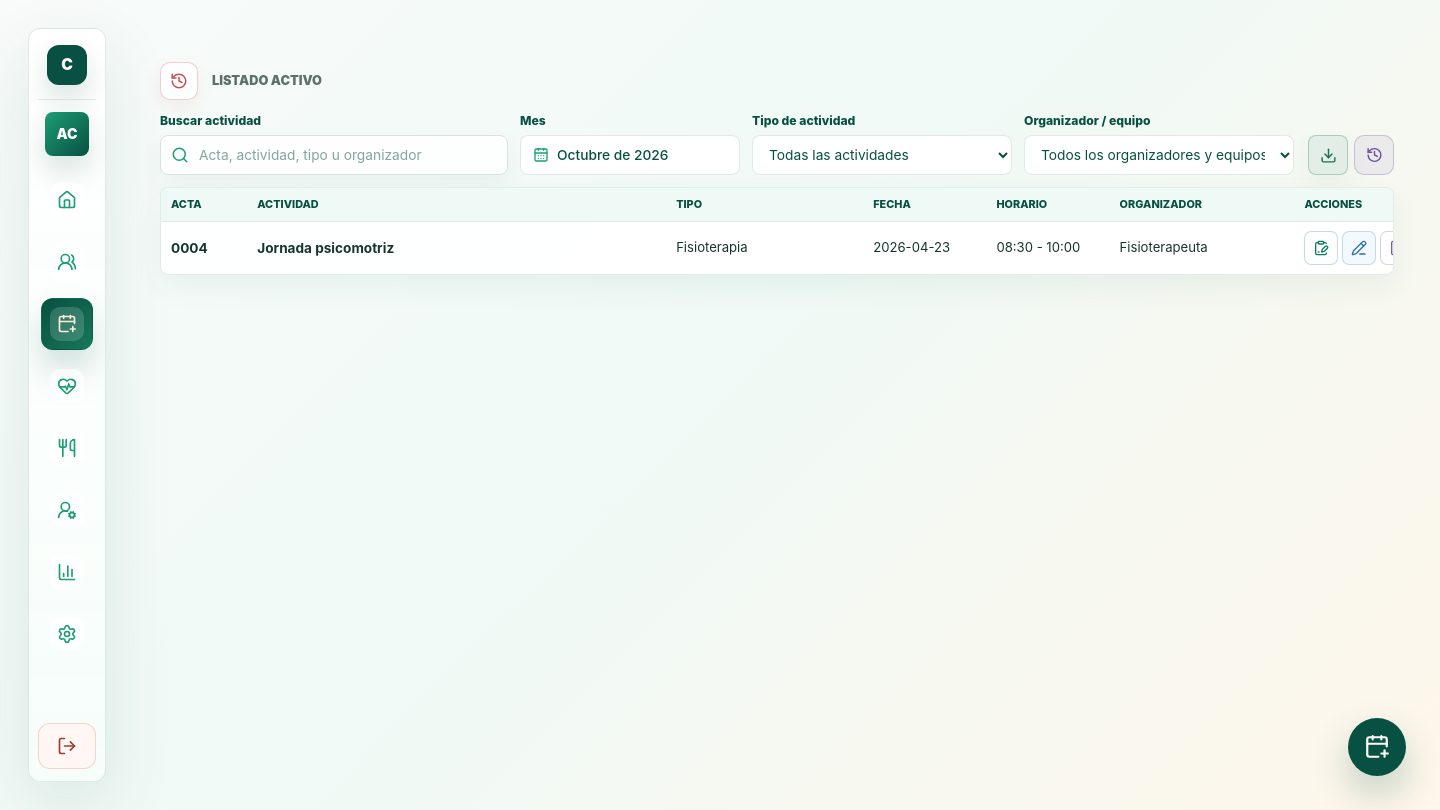
Test case: App actividades deletion log flow › opens the deletion log from the activities list and shows deleted actas
The image size is (1440, 810).
Click the button named "Ver log de eliminaciones".
click(179, 81)  # box [160, 62, 198, 100]
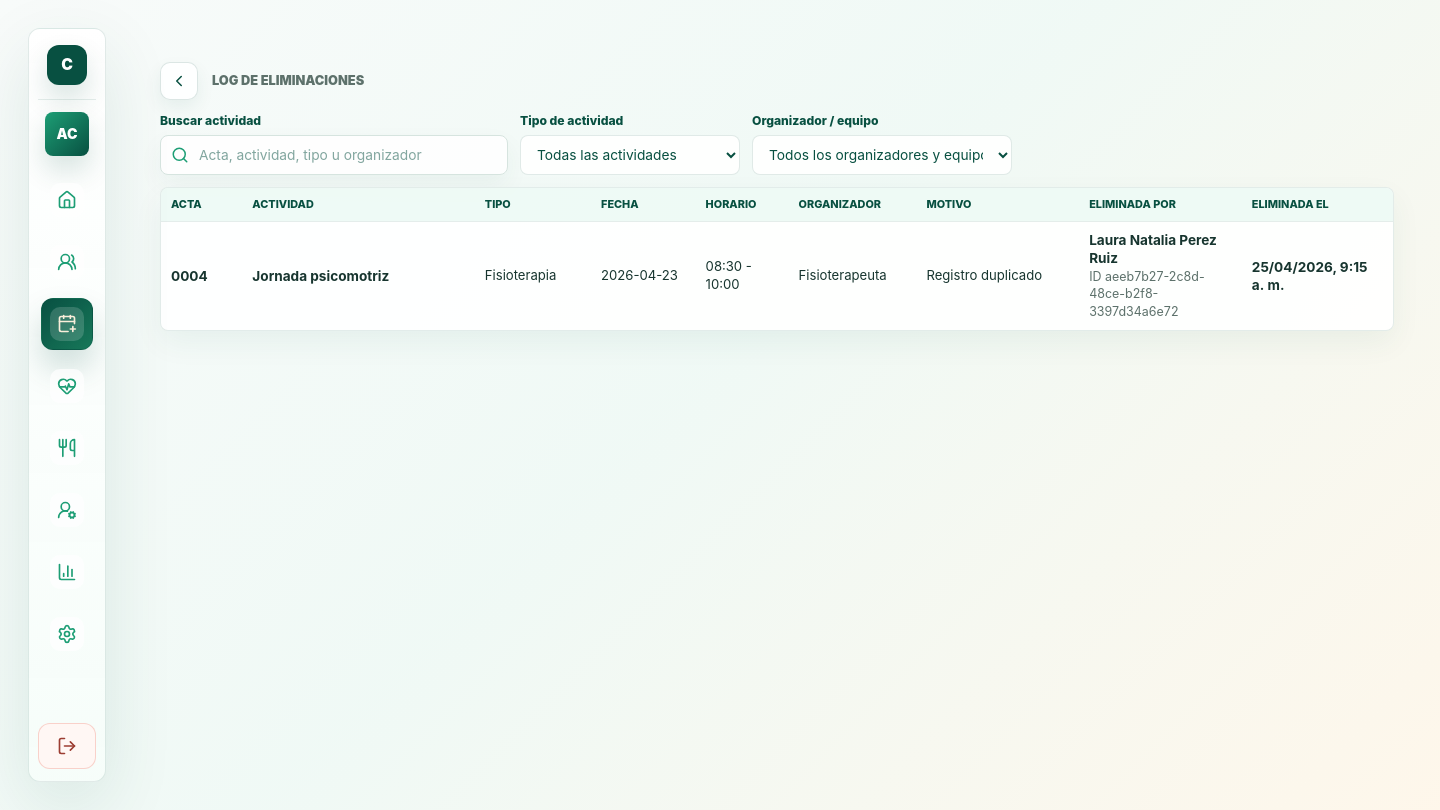
Expected: the text "Jornada psicomotriz" is shown, [252, 268, 389, 284]
Expected: the text "Registro duplicado" is shown, [916, 221, 1079, 330]
